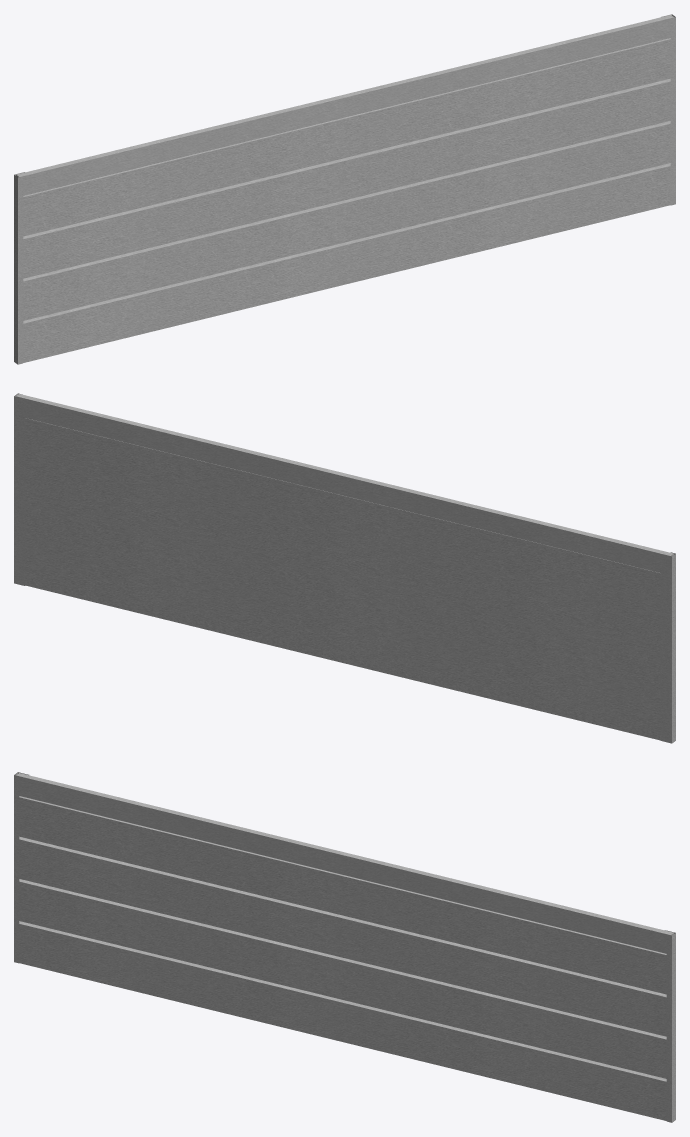
Rendered from backSlashAl80.glb.
3 views of the same model, one above another, from view 1: azimuth 30°, elevation 25°; view 2: azimuth 150°, elevation 25°; view 3: azimuth 330°, elevation 25° (orthographic).
Visible parts, largest first — view 1: backsplashAlu80; view 2: backsplashAlu80; view 3: backsplashAlu80.
Part boxes in pixels (x1=…): backsplashAlu80: x1=14, y1=14, x2=675, y2=364; backsplashAlu80: x1=14, y1=393, x2=675, y2=743; backsplashAlu80: x1=14, y1=772, x2=675, y2=1122.
Size of the model in its own units: 2.03 by 0.5532 by 0.0215.
Materials: 2 (1 with a texture image).
